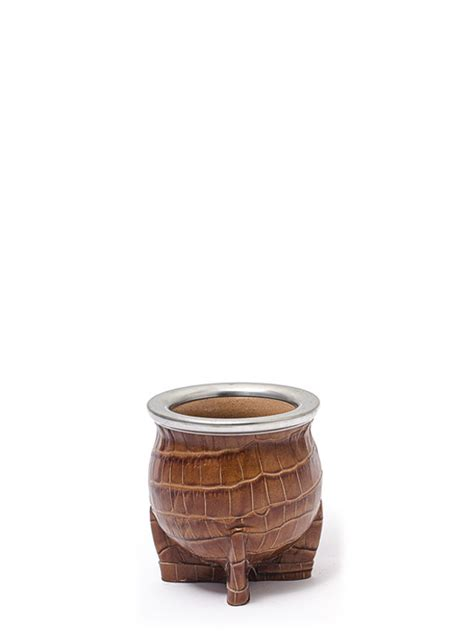cuero: (149, 417, 325, 605)
